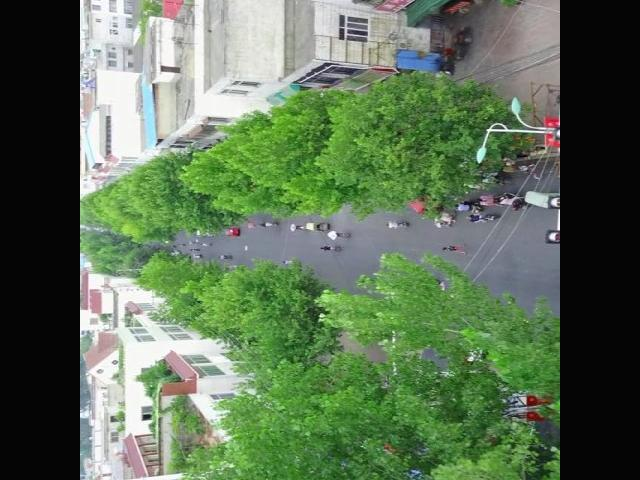out of water: (476, 193, 504, 206), (502, 151, 530, 163), (480, 172, 504, 184), (428, 215, 456, 225), (442, 243, 467, 254), (498, 194, 524, 204), (498, 163, 526, 172), (466, 212, 492, 221), (455, 201, 479, 210), (386, 219, 401, 228), (329, 231, 345, 237), (320, 244, 334, 250), (438, 211, 454, 216), (291, 224, 302, 229), (282, 259, 292, 264), (262, 221, 272, 226), (249, 223, 261, 227), (226, 264, 236, 268), (194, 233, 204, 237), (218, 254, 227, 258), (200, 242, 208, 246), (206, 232, 214, 236), (191, 254, 198, 257), (188, 248, 195, 251), (187, 241, 195, 243)
